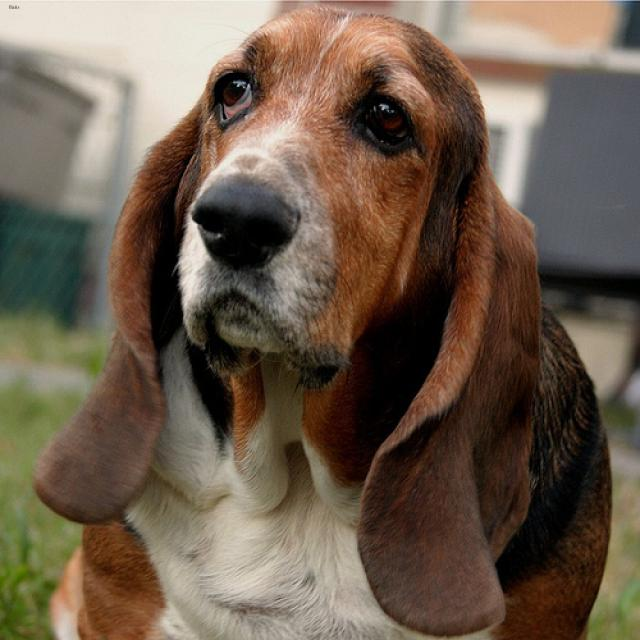dog-basset_hound: (19, 1, 625, 637)
